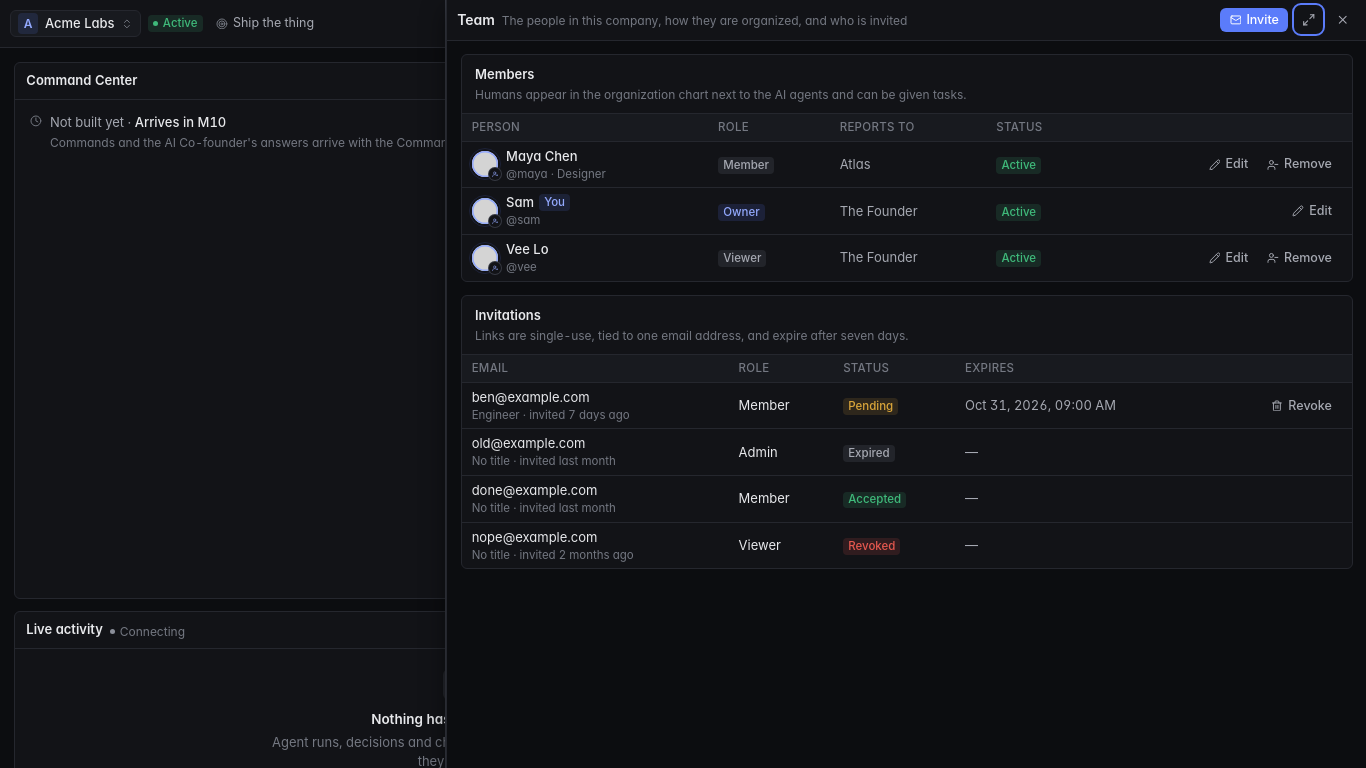
Test: team panel › shows a server refusal when removing the last owner
What coordinates should you click on to do the following:
click the button with aria-label "Remove Maya Chen"
I would click on:
 (1299, 164)
Its box is [1258,153,1341,176].
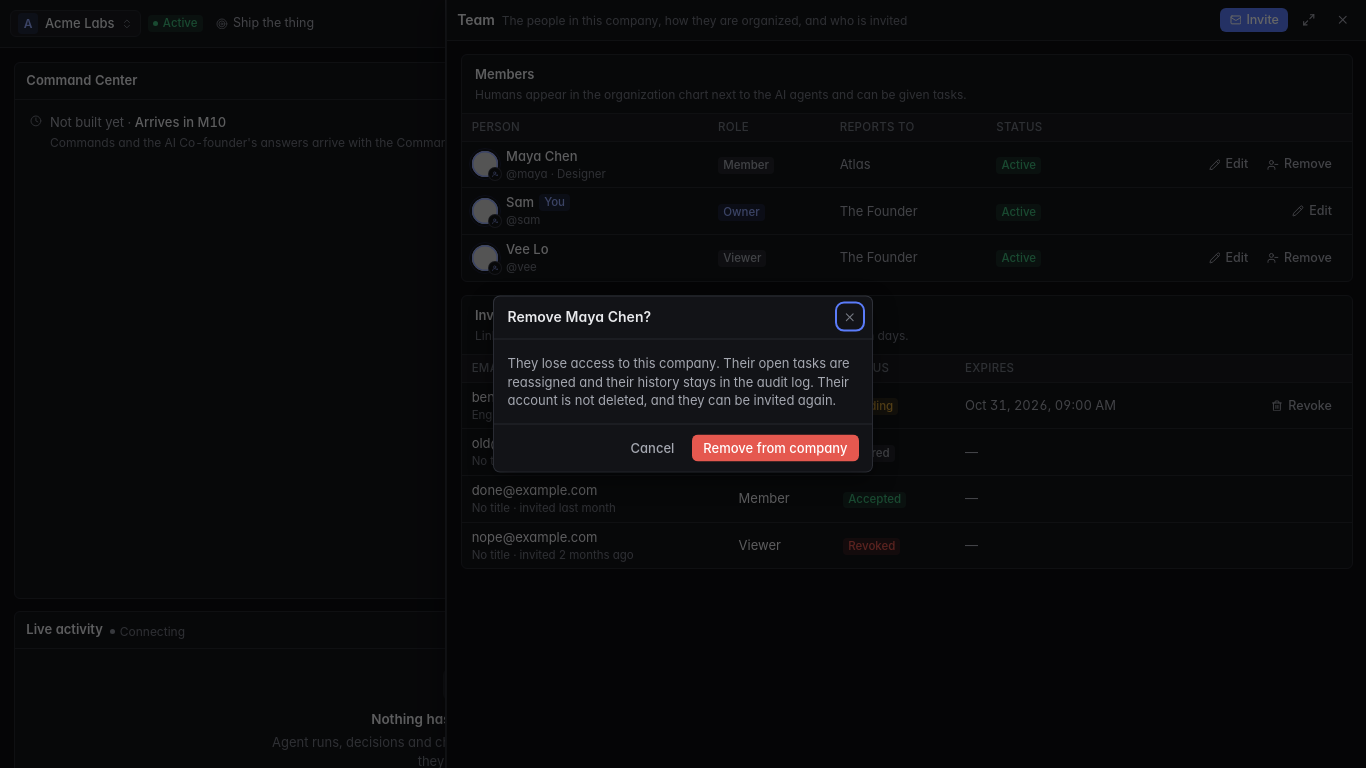
What coordinates should you click on to do the following:
click the button "Remove from company"
I would click on:
 (775, 448)
Its box is [692,434,858,461].
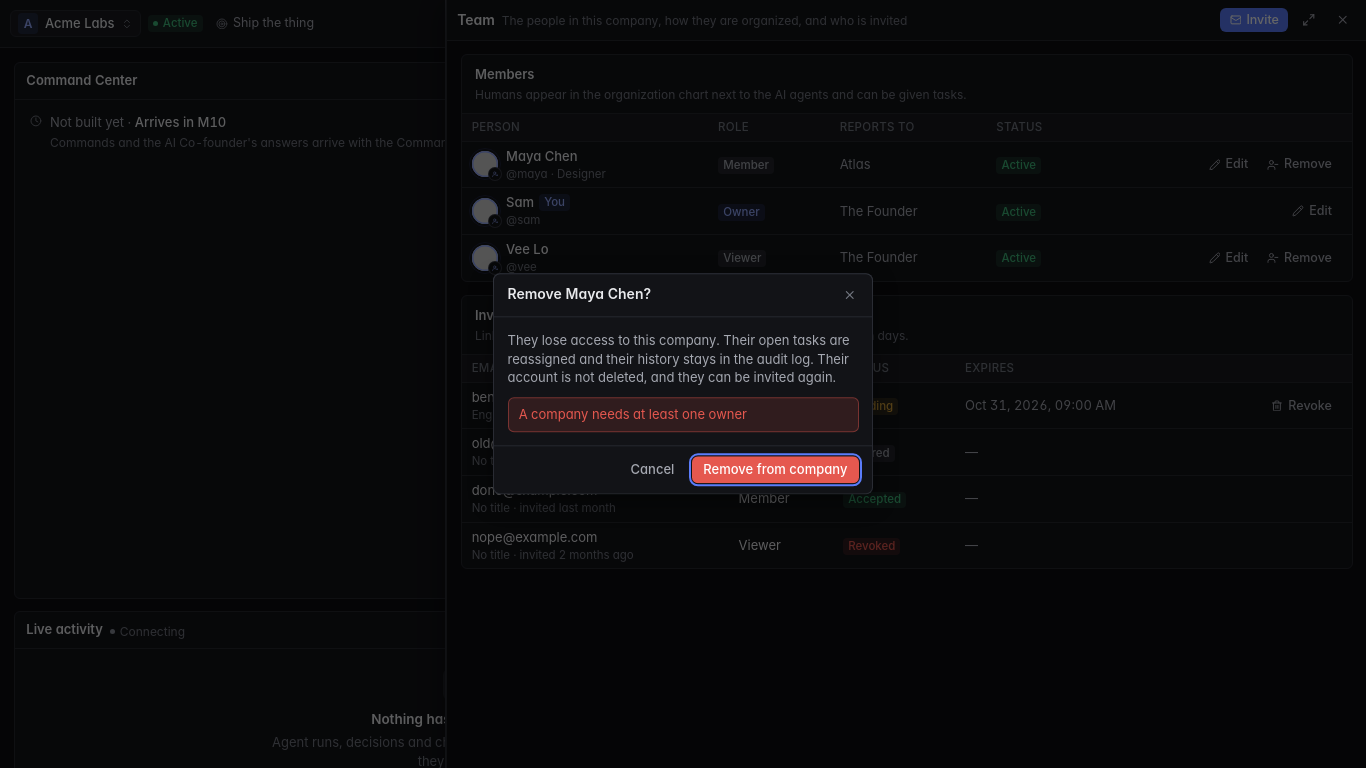
expect the text "A company needs at least one owner" is shown: met, box [508,398,858,432]
